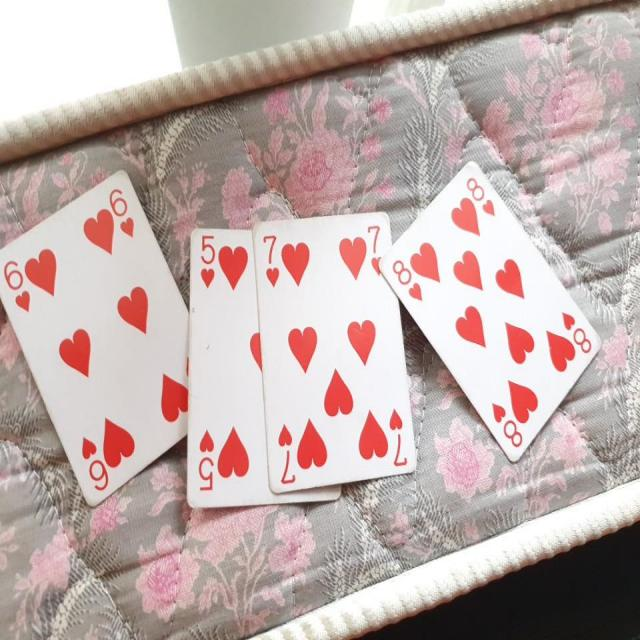5 Hearts: (179, 218, 342, 509)
6 Hearts: (1, 166, 185, 513)
7 Hearts: (248, 209, 416, 497)
8 Hearts: (387, 160, 612, 471)
